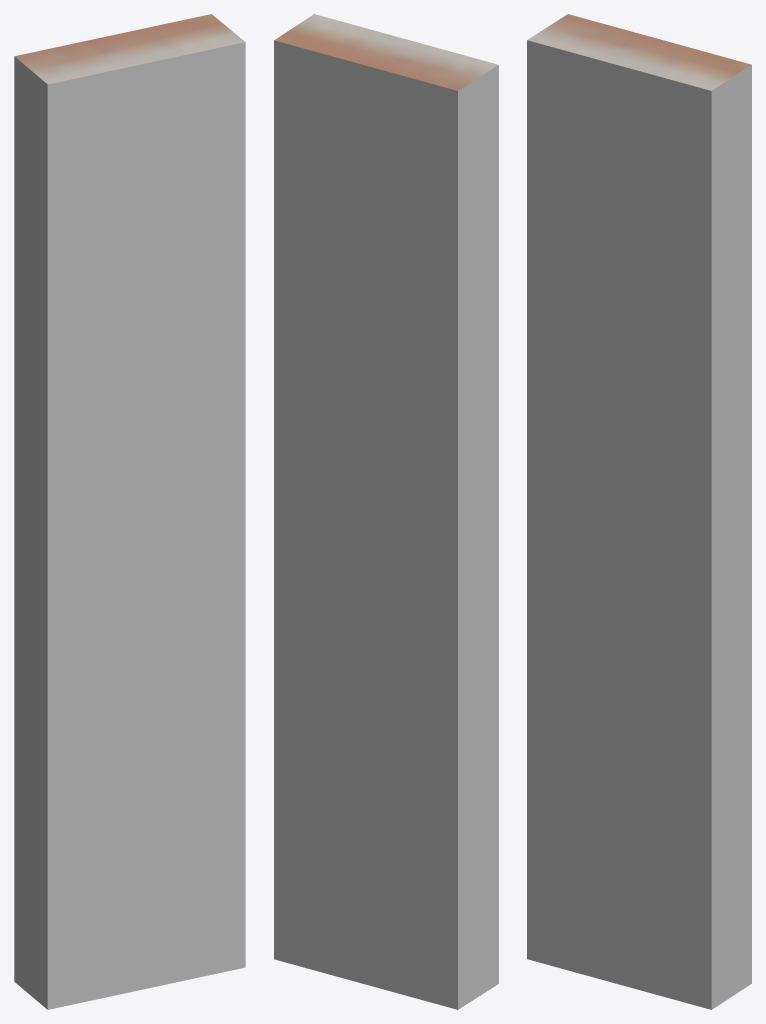
Rendered from DEBW_001000gk3zt.gltf.
3 renders of one model, left to right at view 1: azimuth 30°, elevation 25°; view 2: azimuth 150°, elevation 25°; view 3: azimuth 330°, elevation 25°, orthographic.
Visible parts, largest first — view 1: Z_UP; view 2: Z_UP; view 3: Z_UP.
Boxes of the visible parts, x1=… form: Z_UP: x1=14, y1=14, x2=245, y2=1009; Z_UP: x1=274, y1=14, x2=498, y2=1009; Z_UP: x1=527, y1=14, x2=751, y2=1009.
Bounding box in the file's own units: 3.02 × 13.69 × 1.16.
Materials: 2 (1 with a texture image).
